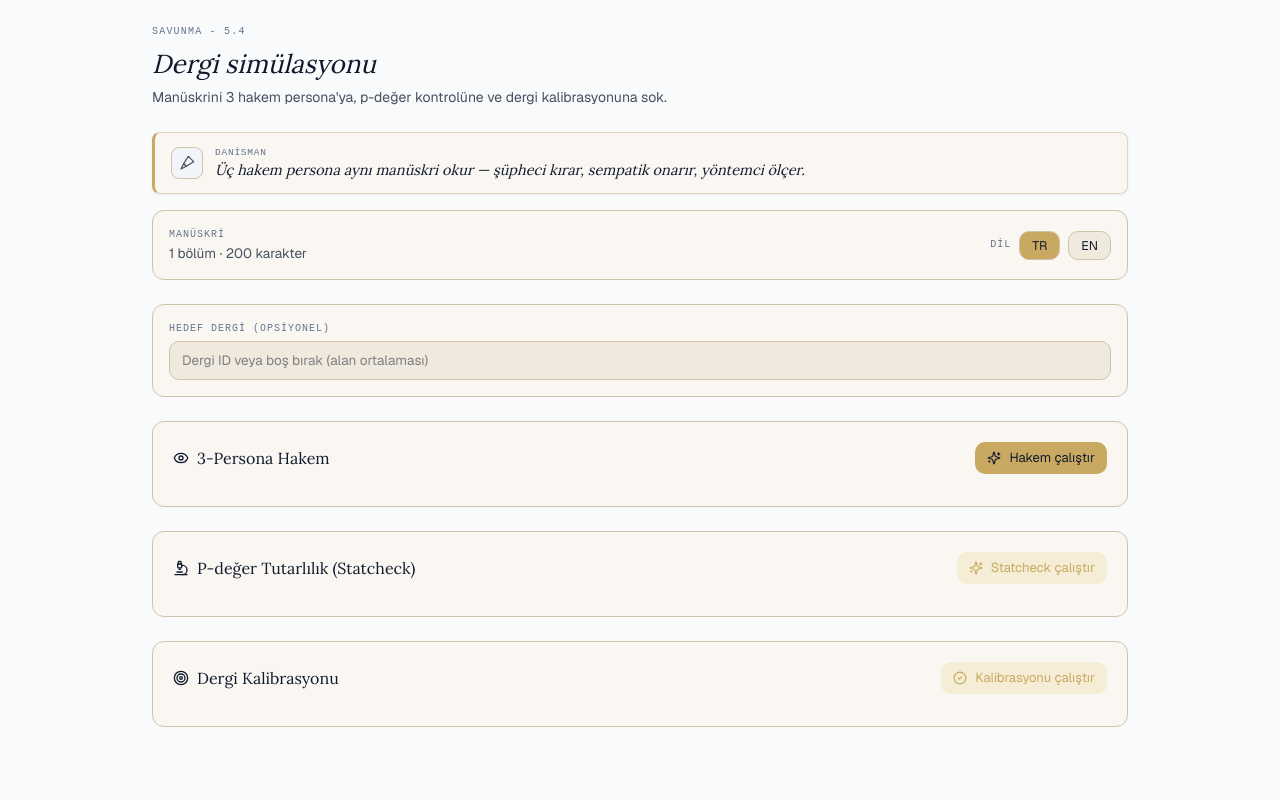
Test: JournalSimulationPage › 3-persona endpoint cagrisi ve 3 persona render
Expected: the text "1 bölüm · 200 karakter" is shown, left=169, top=242, right=307, bottom=263
Click the button "Hakem çalıştır" at (1041, 458), box left=975, top=442, right=1107, bottom=474
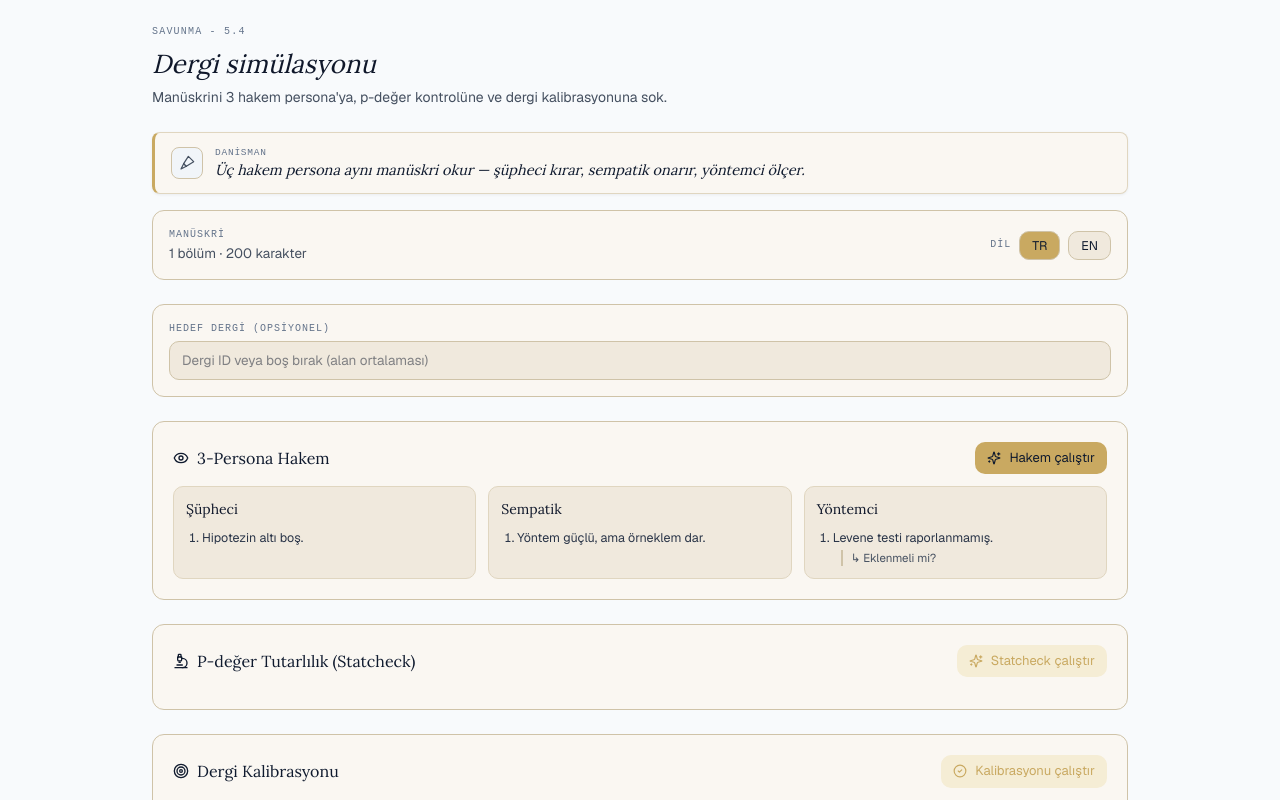
Expected: the list item "Hipotezin altı boş." is shown, left=202, top=529, right=303, bottom=546
Expected: the list item "Yöntem güçlü, ama örneklem dar." is shown, left=517, top=529, right=705, bottom=546
Expected: the list item "Levene testi raporlanmamış. ↳ Eklenmeli mi?" is shown, left=833, top=529, right=1094, bottom=566
